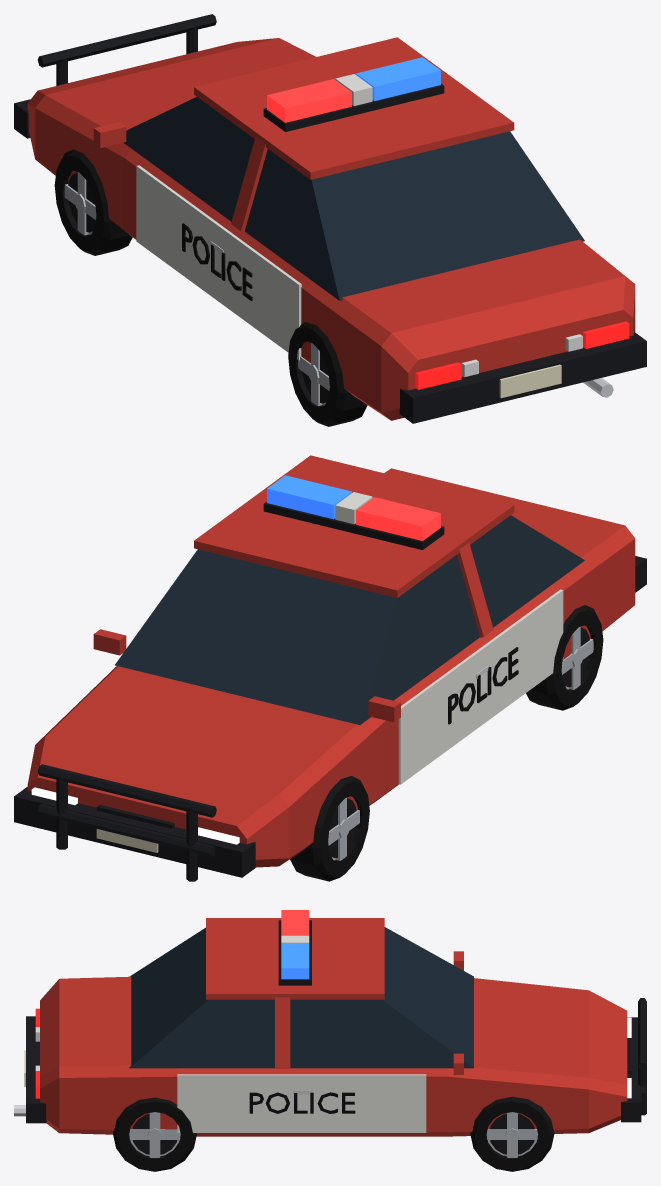
Rendered from police.glb.
The picture shows the model from 3 angles, top to bottom: view 1: azimuth 30°, elevation 25°; view 2: azimuth 150°, elevation 25°; view 3: azimuth 270°, elevation 25°; orthographic projection. The views are drawn at different scales.
Visible parts, largest first — view 1: police_Top, police_Body, police_Lightbar, police_Wheel_FL, police_Wheel_RL, police_TxtL; view 2: police_Top, police_Body, police_Lightbar, police_Wheel_FL, police_Wheel_RL, police_TxtL; view 3: police_Top, police_Body, police_Wheel_FR, police_Wheel_RR, police_Lightbar, police_TxtR.
Part boxes in pixels (bbox=[...]): police_Top: bbox=[14, 14, 646, 423]; police_Body: bbox=[27, 38, 635, 420]; police_Lightbar: bbox=[263, 57, 444, 131]; police_Wheel_FL: bbox=[54, 149, 132, 255]; police_Wheel_RL: bbox=[288, 322, 367, 426]; police_TxtL: bbox=[182, 223, 252, 300]; police_Top: bbox=[14, 455, 646, 881]; police_Body: bbox=[27, 468, 635, 867]; police_Lightbar: bbox=[263, 475, 444, 549]; police_Wheel_FL: bbox=[290, 776, 369, 881]; police_Wheel_RL: bbox=[526, 605, 603, 710]; police_TxtL: bbox=[448, 647, 518, 724]; police_Top: bbox=[14, 918, 646, 1132]; police_Body: bbox=[40, 976, 627, 1136]; police_Wheel_FR: bbox=[470, 1096, 554, 1171]; police_Wheel_RR: bbox=[113, 1097, 196, 1171]; police_Lightbar: bbox=[278, 910, 311, 985]; police_TxtR: bbox=[249, 1092, 355, 1113].
Bounding box in the file's own units: 2.08 × 1.6 × 4.96.
